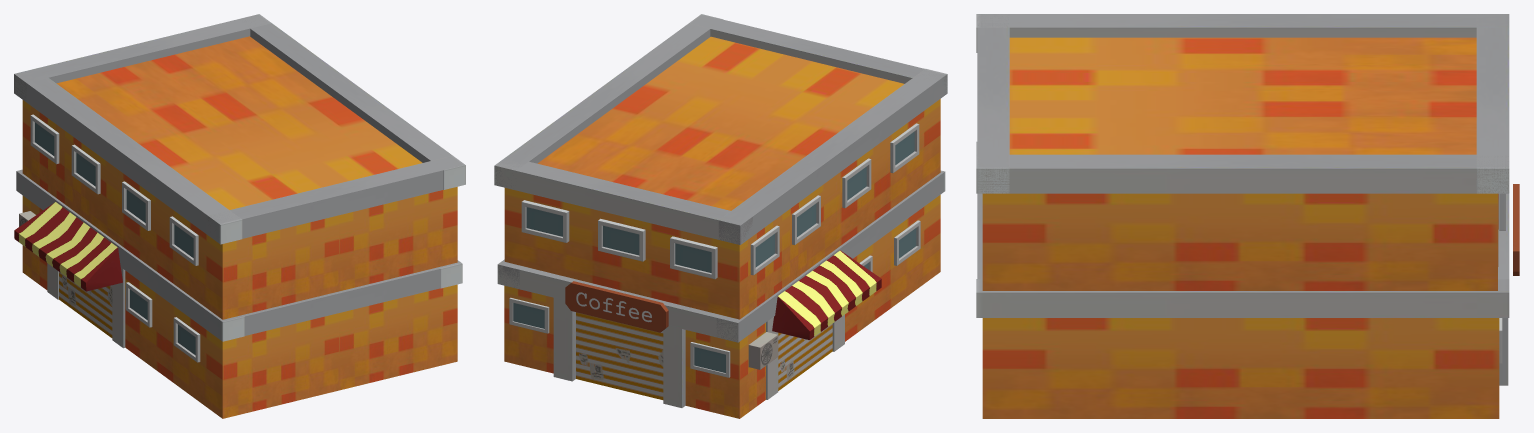
The model's file is nha_vang_coffe.fbx.
3 views of the same model, side by side, from view 1: azimuth 30°, elevation 25°; view 2: azimuth 150°, elevation 25°; view 3: azimuth 270°, elevation 25° (orthographic). The views are drawn at different scales.
Visible parts, largest first — view 1: nha_vang_coffe; view 2: nha_vang_coffe; view 3: nha_vang_coffe.
Boxes of the visible parts, left/top/right/bottom form: nha_vang_coffe: left=14, top=14, right=465, bottom=418; nha_vang_coffe: left=494, top=14, right=947, bottom=418; nha_vang_coffe: left=976, top=14, right=1519, bottom=418.
Bounding box in the file's own units: 1524 × 1024 × 1985.
